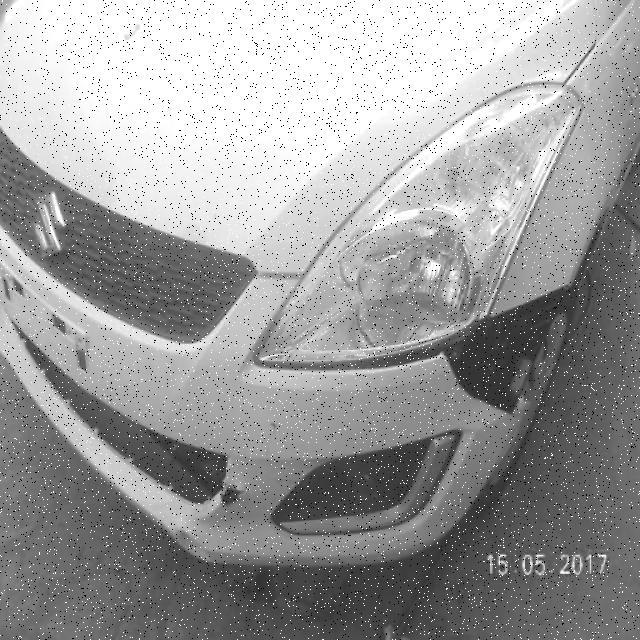car damage: (307, 278, 564, 426), (172, 524, 215, 565), (220, 482, 244, 514), (122, 16, 143, 48), (263, 418, 279, 459)
